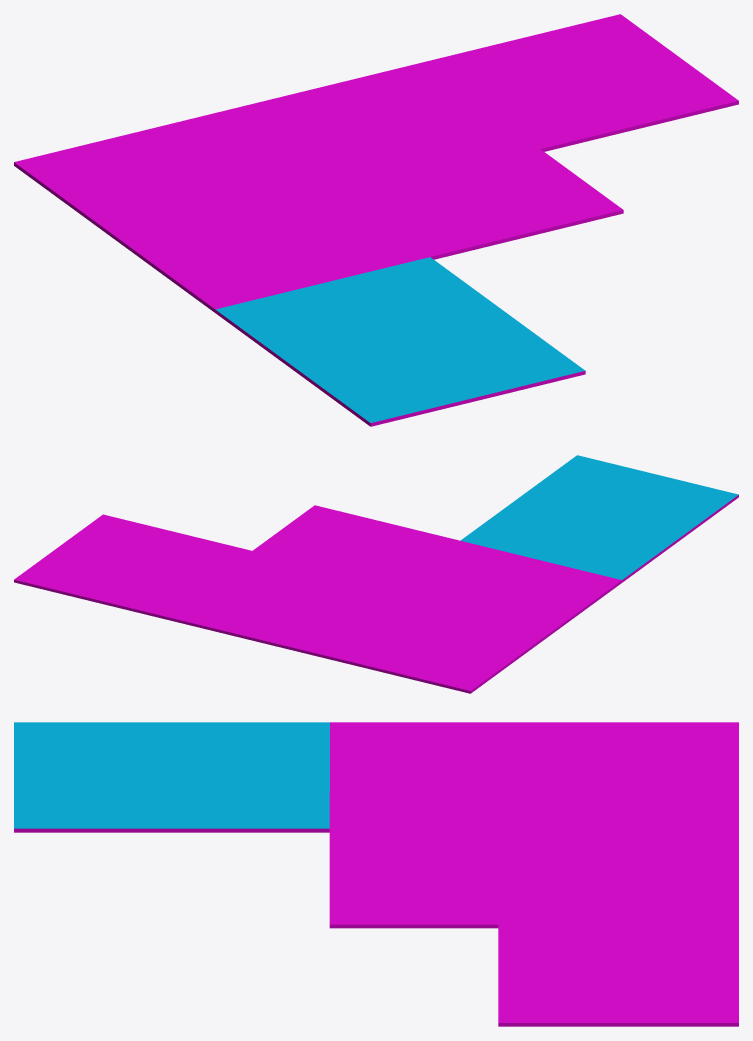
File: BH07B_Floor_02.fbx
3 views of the same model, one above another, from view 1: azimuth 30°, elevation 25°; view 2: azimuth 150°, elevation 25°; view 3: azimuth 270°, elevation 25° (orthographic). The views are drawn at different scales.
Parts seen in each view (by area): view 1: BH07B_Floor_02; view 2: BH07B_Floor_02; view 3: BH07B_Floor_02.
Part boxes in pixels (x1=…): BH07B_Floor_02: x1=14, y1=14, x2=738, y2=426; BH07B_Floor_02: x1=14, y1=455, x2=738, y2=693; BH07B_Floor_02: x1=14, y1=722, x2=738, y2=1026.
Bounding box in the file's own units: 1384 × 8.08 × 1409.
